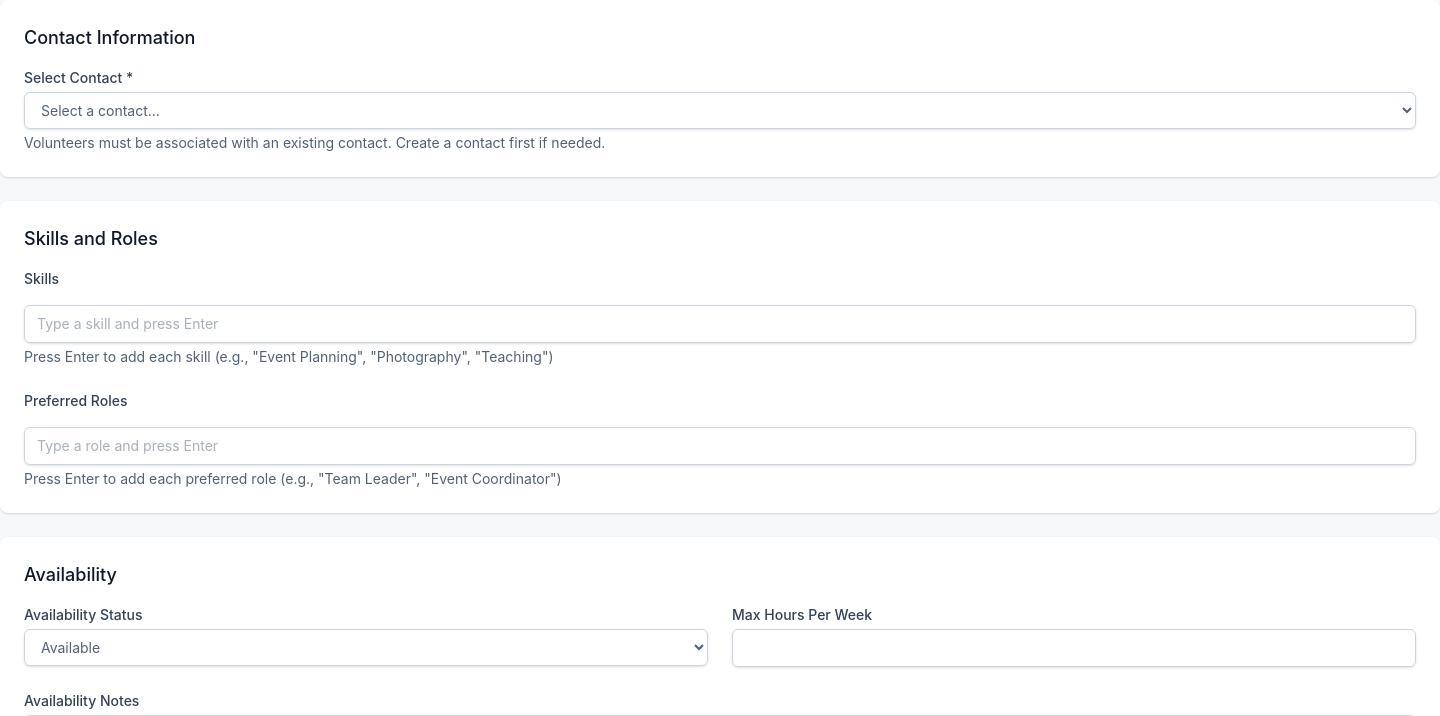
Scenario: VolunteerForm › Create Mode › allows adding skills by typing and pressing Enter
Type "Programming" into the field labelled "Skills" at (720, 324), box 24,305 -> 1416,343
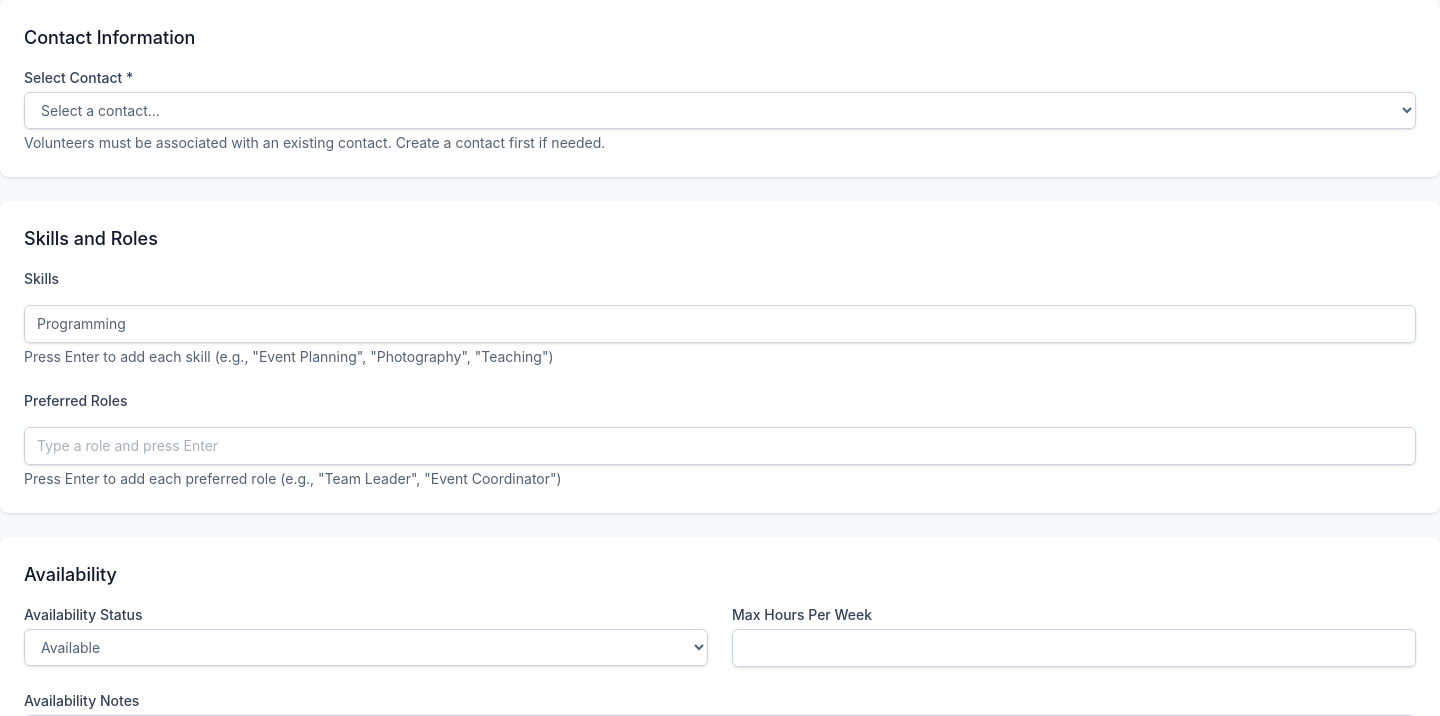
Press Enter in the field labelled "Skills", box 24,305 -> 1416,343
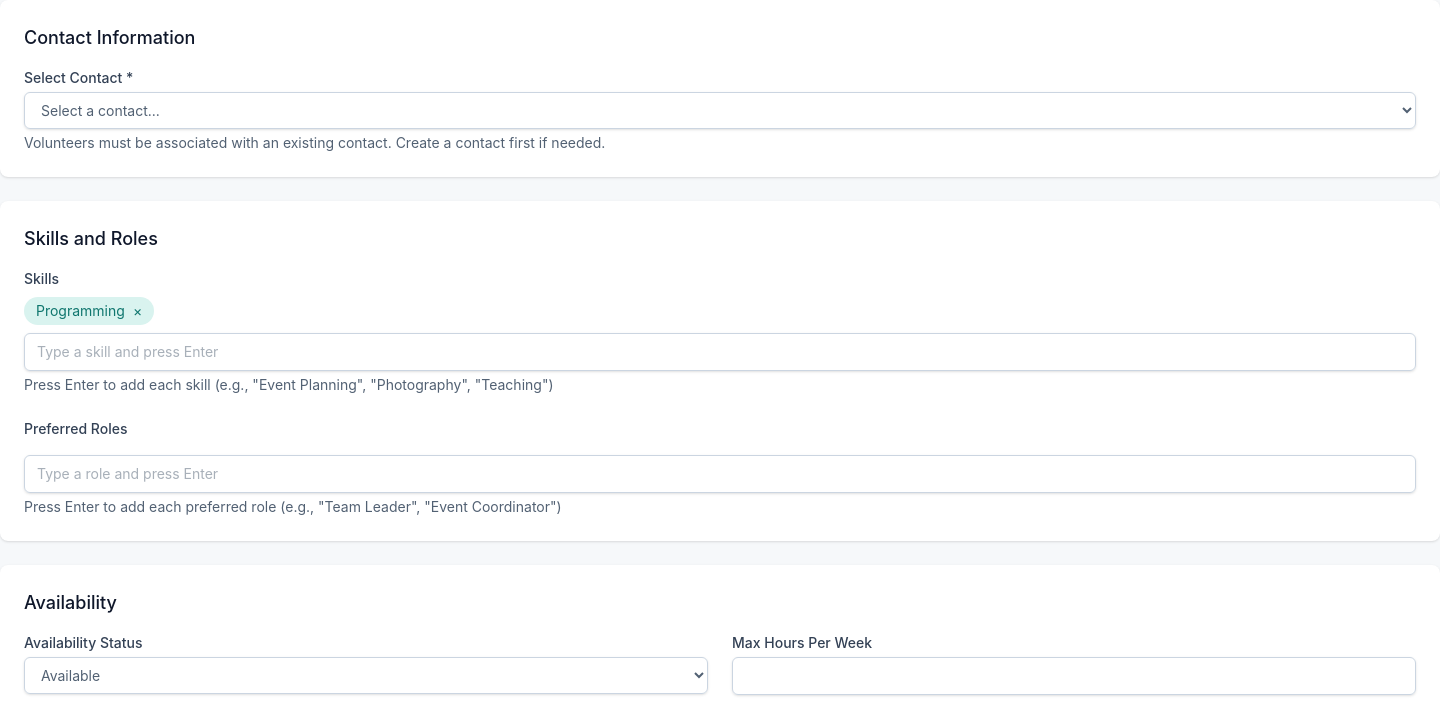
Result: the text "Programming" is shown at 36,302 -> 125,319
